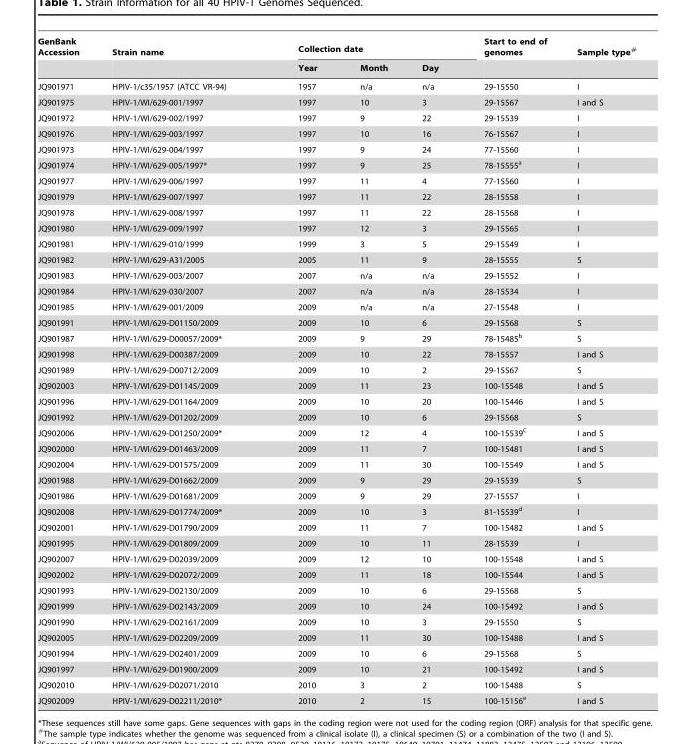table: (37, 36, 636, 705)
table column: (95, 36, 261, 705), (460, 36, 561, 705), (261, 36, 337, 705), (561, 36, 636, 705), (337, 36, 404, 705), (37, 36, 95, 705), (404, 36, 460, 705)
table column header: (37, 36, 636, 77)
table row: (37, 36, 636, 59), (37, 59, 636, 77), (37, 77, 636, 94), (37, 156, 636, 173), (37, 329, 636, 346), (37, 502, 636, 519), (37, 94, 636, 110), (37, 125, 636, 141), (37, 188, 636, 204), (37, 204, 636, 220), (37, 220, 636, 236), (37, 251, 636, 267), (37, 267, 636, 283), (37, 283, 636, 299), (37, 346, 636, 362), (37, 377, 636, 393), (37, 393, 636, 409), (37, 424, 636, 440), (37, 440, 636, 456), (37, 456, 636, 472), (37, 472, 636, 488), (37, 519, 636, 535), (37, 535, 636, 551), (37, 566, 636, 582), (37, 582, 636, 598), (37, 598, 636, 614), (37, 629, 636, 645), (37, 645, 636, 661), (37, 661, 636, 677), (37, 110, 636, 125), (37, 141, 636, 156), (37, 173, 636, 188), (37, 236, 636, 251), (37, 299, 636, 314), (37, 314, 636, 329), (37, 362, 636, 377), (37, 409, 636, 424), (37, 551, 636, 566), (37, 614, 636, 629), (37, 488, 636, 502), (37, 677, 636, 691), (37, 691, 636, 705)
table spanning cell: (95, 36, 261, 77), (261, 36, 460, 59), (460, 36, 561, 77), (561, 36, 636, 77), (37, 36, 95, 77)
